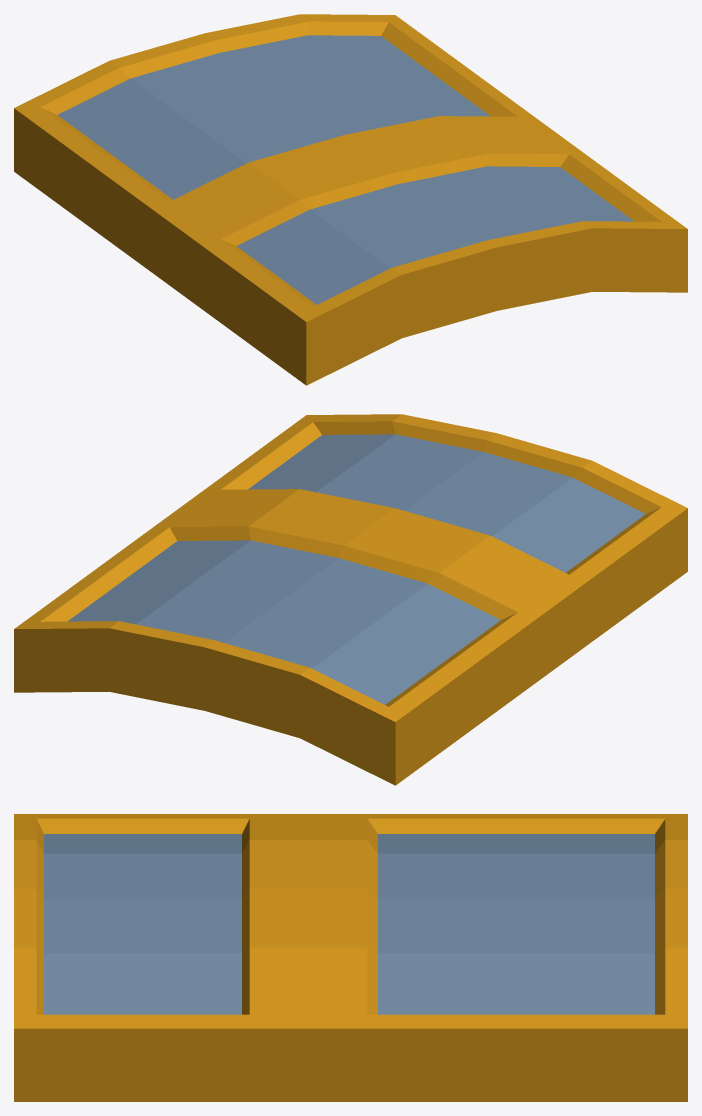
The model's file is Mothership_02_Roof_Hatch_Yellow.fbx.
3 views of the same model, one above another, from view 1: azimuth 30°, elevation 25°; view 2: azimuth 150°, elevation 25°; view 3: azimuth 270°, elevation 25° (orthographic). The views are drawn at different scales.
Parts seen in each view (by area): view 1: Mothership_02_Roof_Hatch_Yellow; view 2: Mothership_02_Roof_Hatch_Yellow; view 3: Mothership_02_Roof_Hatch_Yellow.
Part boxes in pixels (x1,y1,x2,y2): Mothership_02_Roof_Hatch_Yellow: (14, 14, 687, 385); Mothership_02_Roof_Hatch_Yellow: (14, 414, 687, 785); Mothership_02_Roof_Hatch_Yellow: (14, 814, 687, 1101).
Bounding box in the file's own units: 692 × 159 × 919.
Materials: 2 (2 with a texture image).
